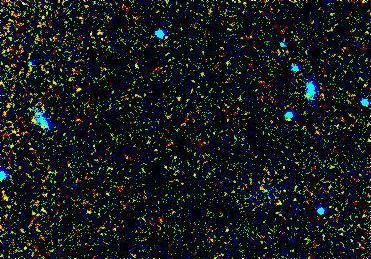star: (63, 75, 93, 105)
